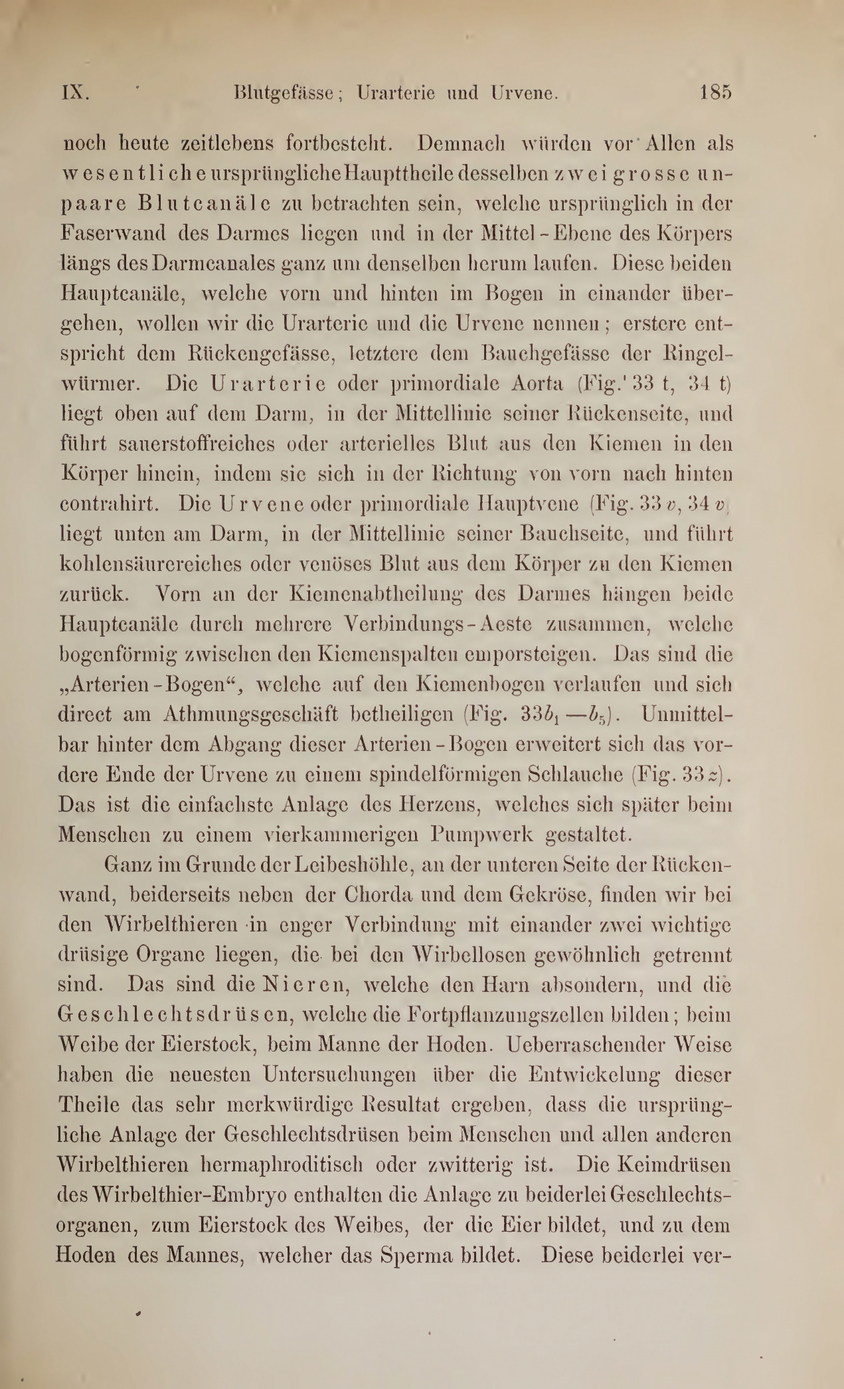MainZone: (43, 120, 760, 1299)
NumberingZone chapter: (50, 70, 104, 110)
NumberingZone_page: (684, 70, 753, 116)
RunningTitleZone: (222, 70, 578, 116)
